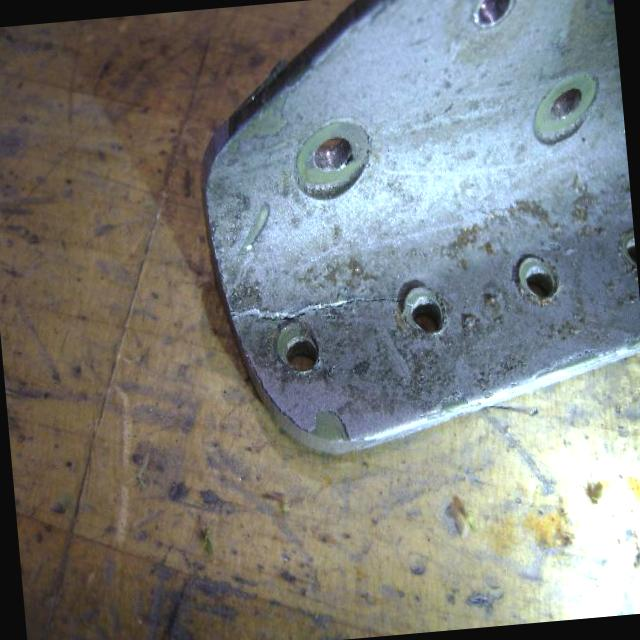Missing Fastener: (276, 110, 398, 208), (520, 61, 616, 154), (258, 298, 348, 385), (508, 236, 570, 312), (450, 0, 533, 51), (396, 276, 457, 344)
